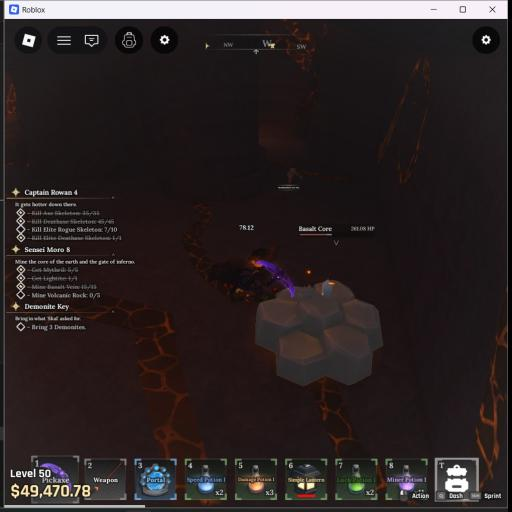player: (208, 246, 285, 301)
rock: (256, 280, 382, 385)
